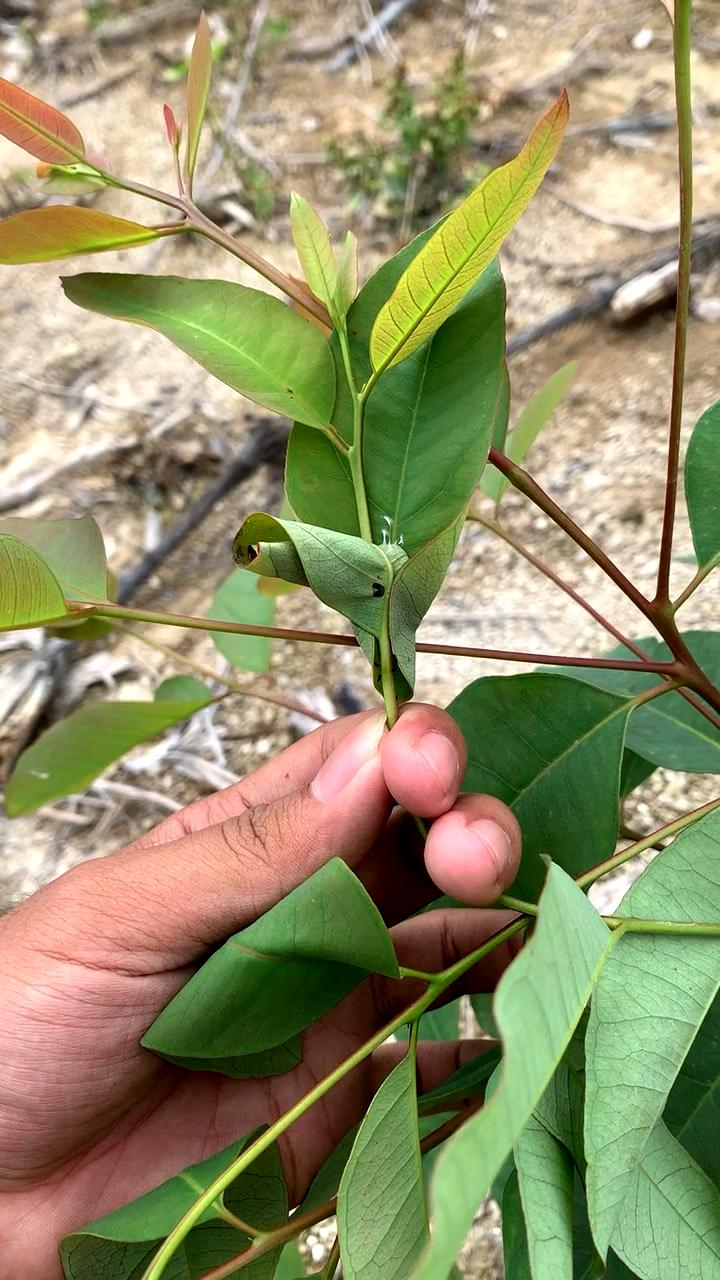Leaf Roller - Leaf: (180, 473, 443, 660)
